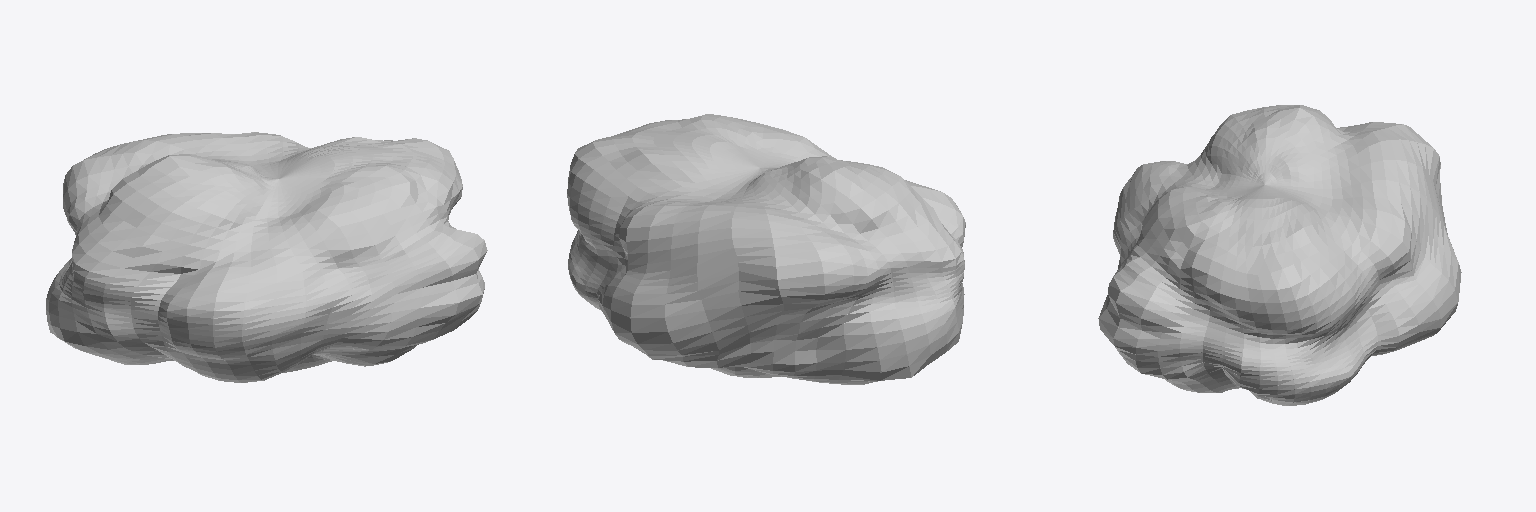
Rendered from CloudB.obj.
3 renders of one model, left to right at view 1: azimuth 30°, elevation 25°; view 2: azimuth 150°, elevation 25°; view 3: azimuth 270°, elevation 25°, orthographic.
Visible parts, largest first — view 1: CloudB1 CloudsMiddle1 Clouds1; view 2: CloudB1 CloudsMiddle1 Clouds1; view 3: CloudB1 CloudsMiddle1 Clouds1.
Boxes of the visible parts, box(x1,y1,x2,y2) form: CloudB1 CloudsMiddle1 Clouds1: box(46, 132, 487, 382); CloudB1 CloudsMiddle1 Clouds1: box(567, 114, 965, 384); CloudB1 CloudsMiddle1 Clouds1: box(1098, 105, 1461, 405).
Size of the model in its own units: 399 by 219 by 324.